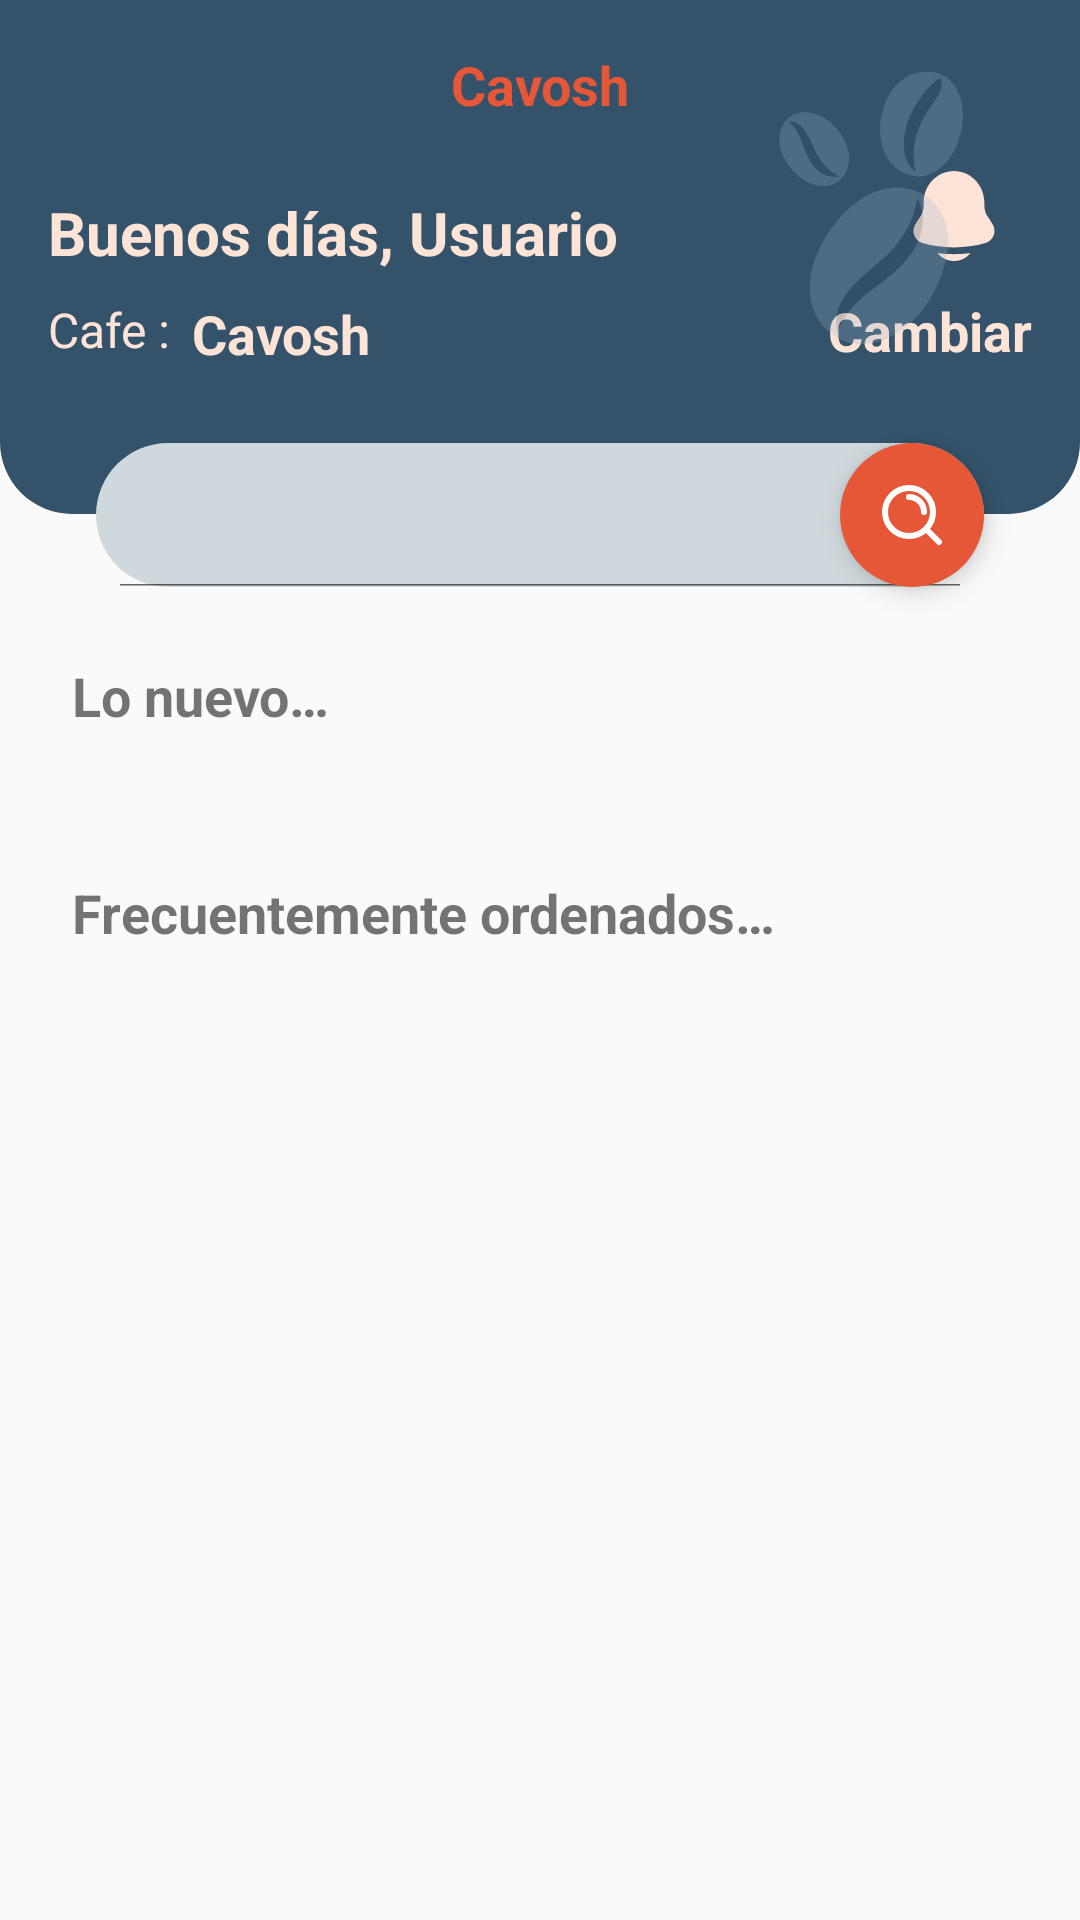

Named icons in this screenshot (1080w x 1920h) and their centers, (x,y):
search: (912,515)
